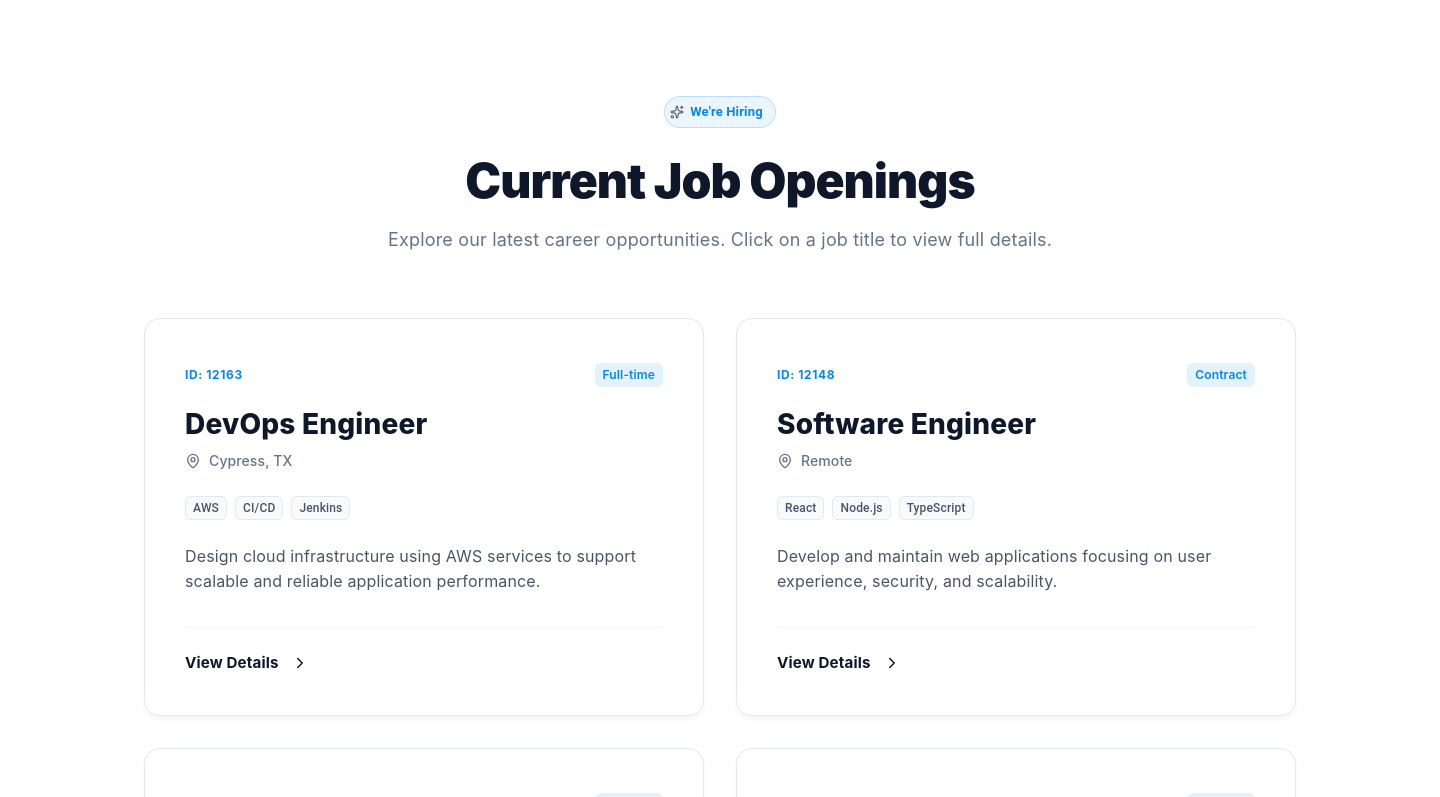
Test case: JobOpeningsSection Component › opens job details dialog on job click
The image size is (1440, 797).
Step 1. Click the heading "DevOps Engineer" → click(306, 424), box [185,407,427,441]
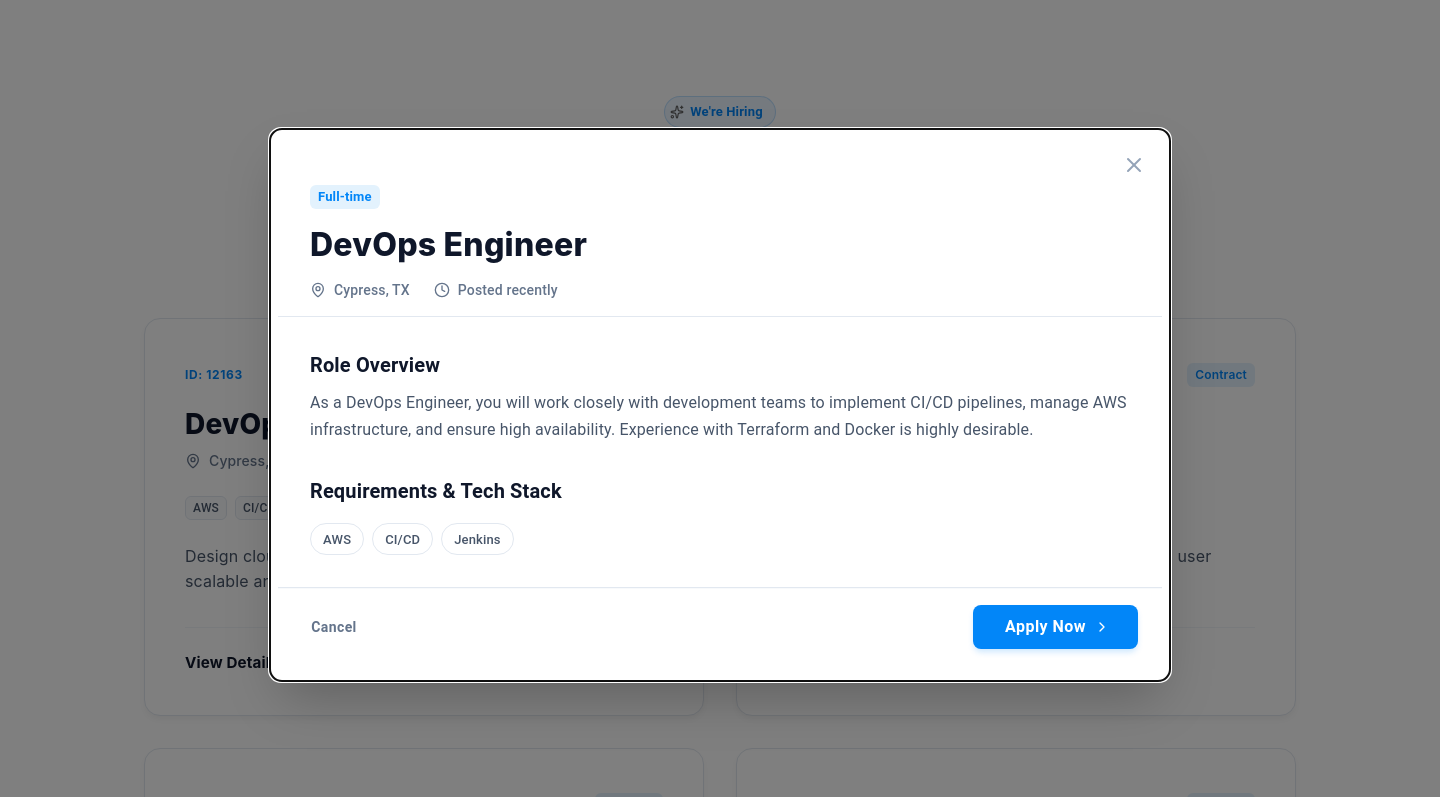
expect the heading "Role Overview" is shown: met, box [310,353,440,377]
expect the button "Apply Now" is shown: met, box [973,606,1138,650]
